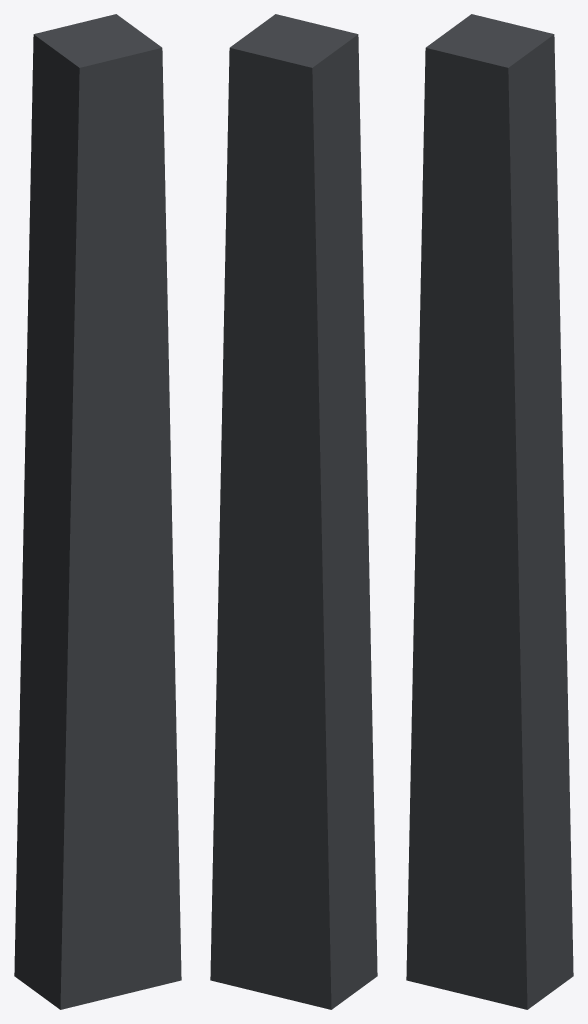
The model's file is Clock2_C3_03.fbx.
The picture shows the model from 3 angles, left to right: view 1: azimuth 30°, elevation 25°; view 2: azimuth 150°, elevation 25°; view 3: azimuth 330°, elevation 25°; orthographic projection.
Visible parts, largest first — view 1: Clock2_C3_03; view 2: Clock2_C3_03; view 3: Clock2_C3_03.
Boxes of the visible parts, x1=… form: Clock2_C3_03: x1=14, y1=14, x2=181, y2=1009; Clock2_C3_03: x1=210, y1=14, x2=377, y2=1009; Clock2_C3_03: x1=406, y1=14, x2=573, y2=1009.
Size of the model in its own units: 1.13 by 8.34 by 0.7428.
